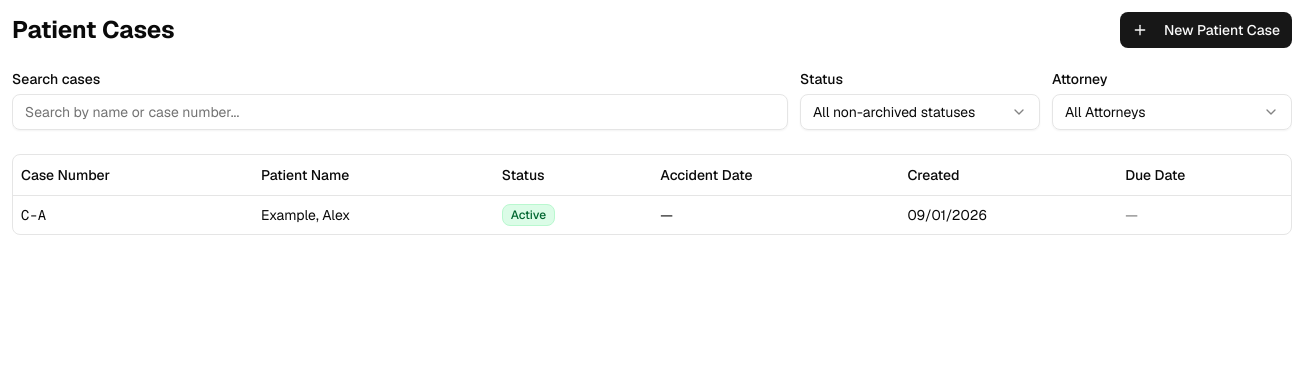
Test: retains legacy all and explicit archived selection semantics
The image size is (1304, 389).
Click the dropdown labelled "status" at (920,112), box [800, 94, 1040, 130]
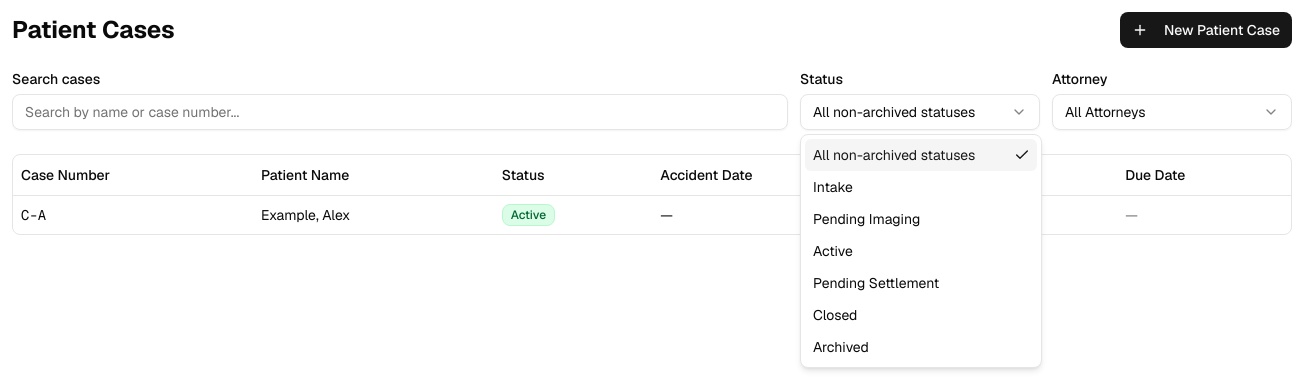
Click the option "Archived" at (841,347), box [813, 338, 869, 356]
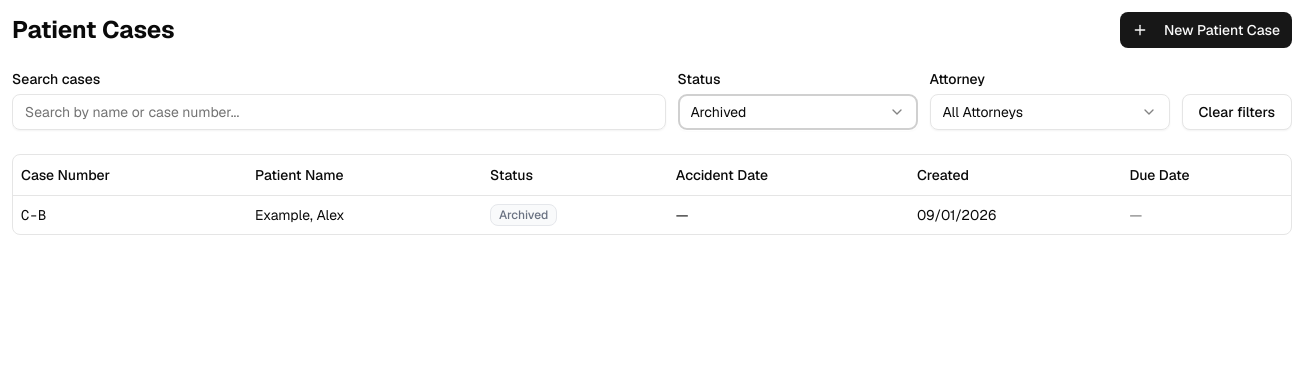
Expected: the link "C-B" is shown, [21, 206, 46, 224]
Expected: the link "C-A" is gone
